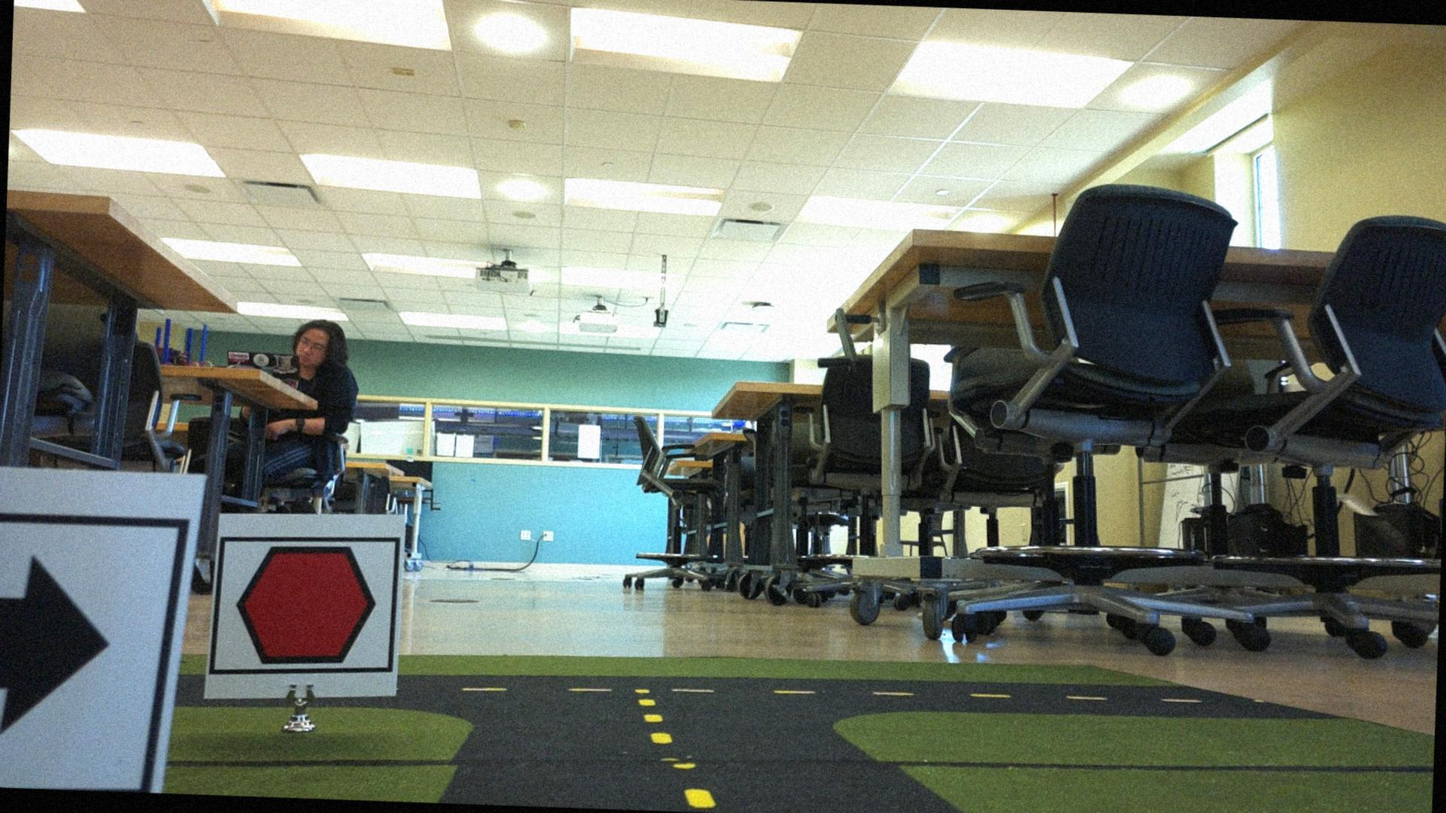stop: (220, 539, 392, 674)
yellowline: (639, 696, 671, 746)
